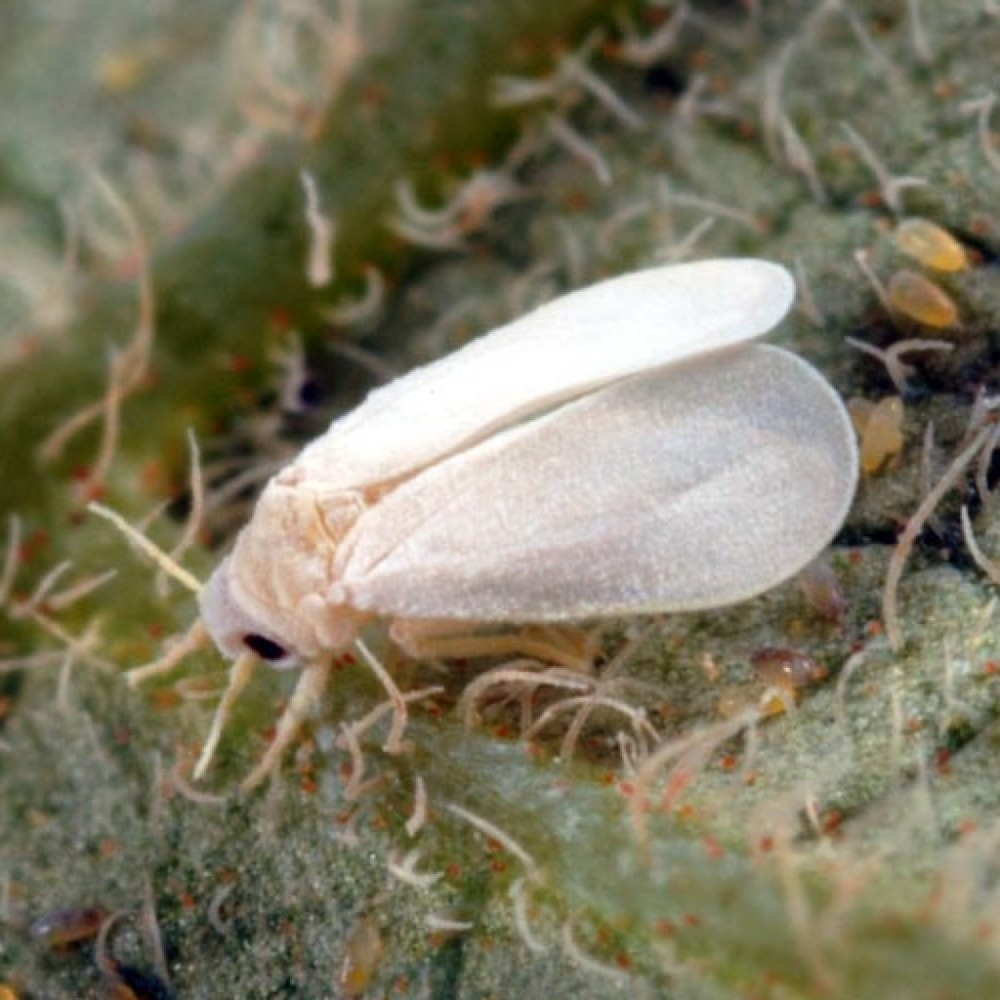Mosca Blanca: (111, 250, 881, 758)
